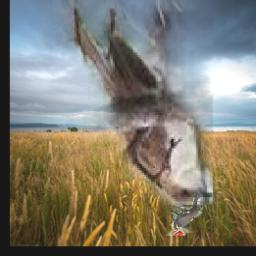Cuckoo: (50, 0, 213, 205)
Woodpecker: (166, 187, 204, 236)
